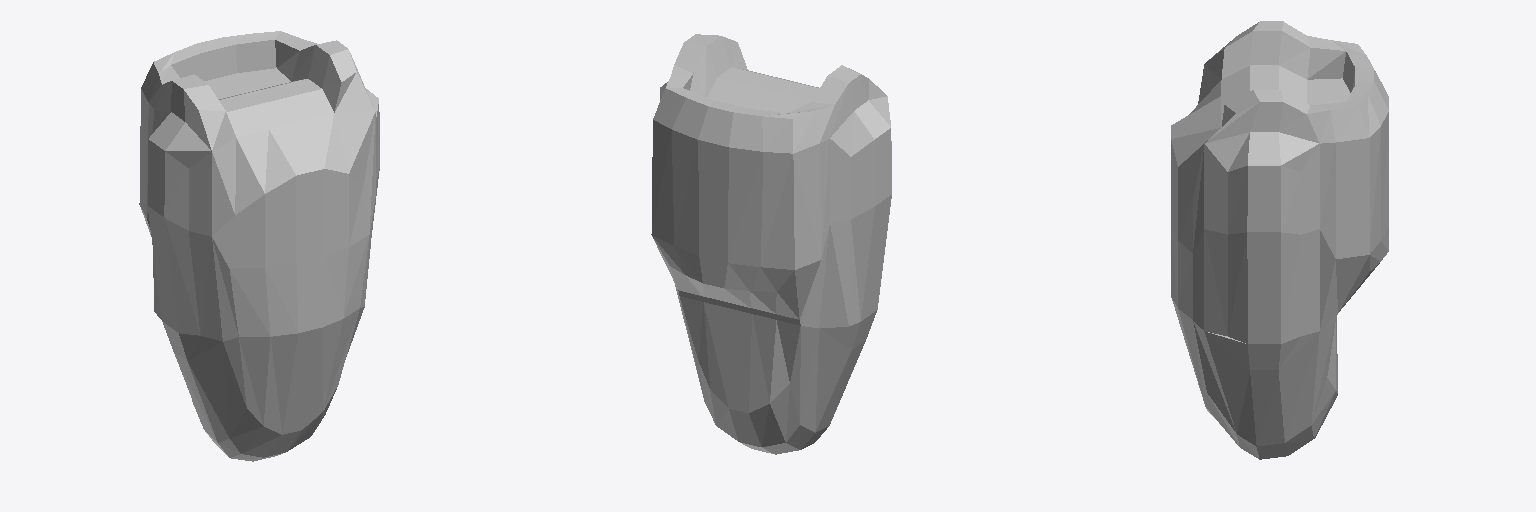
The model's file is body.obj.
3 renders of one model, left to right at view 1: azimuth 30°, elevation 25°; view 2: azimuth 150°, elevation 25°; view 3: azimuth 270°, elevation 25°, orthographic.
Visible parts, largest first — view 1: body; view 2: body; view 3: body.
Boxes of the visible parts, x1=… form: body: x1=139, y1=31, x2=379, y2=461; body: x1=651, y1=34, x2=891, y2=454; body: x1=1171, y1=21, x2=1388, y2=459.
Bounding box in the file's own units: 0.6105 × 1.06 × 0.5336.